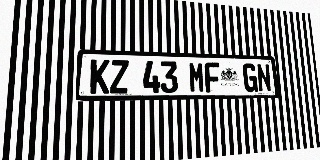3: (160, 61, 178, 93)
4: (143, 61, 160, 93)
F: (204, 62, 221, 93)
G: (242, 63, 258, 92)
K: (90, 59, 110, 94)
M: (188, 62, 205, 93)
N: (256, 64, 272, 92)
Z: (110, 60, 129, 94)
